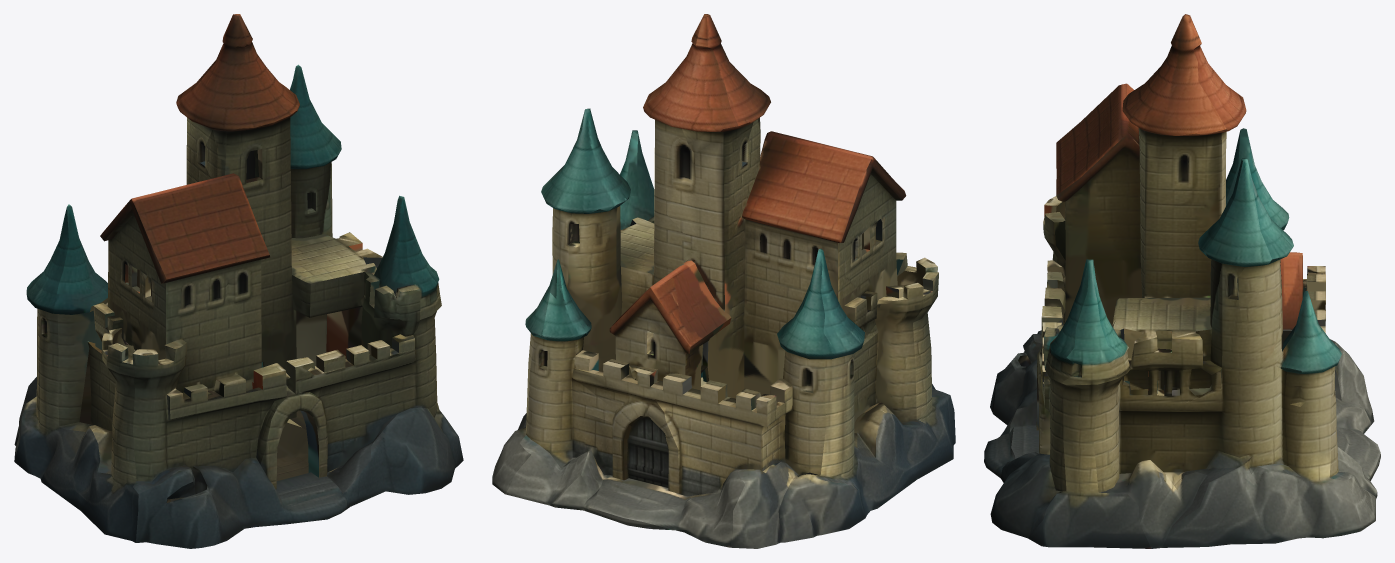
The picture shows the model from 3 angles, left to right: view 1: azimuth 30°, elevation 25°; view 2: azimuth 150°, elevation 25°; view 3: azimuth 270°, elevation 25°; orthographic projection. The views are drawn at different scales.
Visible parts, largest first — view 1: Castle; view 2: Castle; view 3: Castle.
Boxes of the visible parts, x1,y1,x2,y2 form: Castle: [14, 14, 463, 548]; Castle: [492, 14, 955, 548]; Castle: [984, 14, 1380, 548].
Size of the model in its own units: 0.3806 by 0.45 by 0.3588.
Materials: 1 (1 with a texture image).
